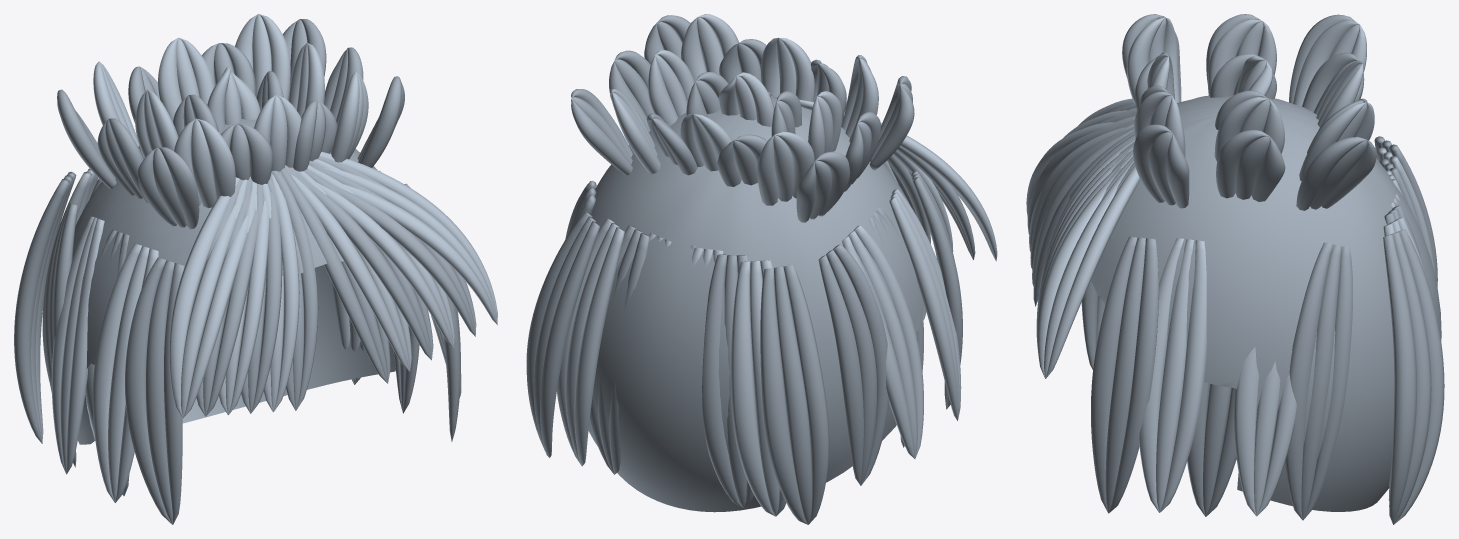
3 renders of one model, left to right at view 1: azimuth 30°, elevation 25°; view 2: azimuth 150°, elevation 25°; view 3: azimuth 270°, elevation 25°, orthographic. The views are drawn at different scales.
Parts seen in each view (by area): view 1: CrownHair_male_ref08, SideHair_-1_0_Strand2, BackHair_00_Strand0, SideHair_-1_0_Strand1, SideHair_-1_1_Strand2, FrontHair_CenterPart_-1_5_Strand2, SideHair_-1_1_Strand1, SideHair_-1_3_Strand0, FrontHair_CenterPart_1_0_Strand2, FrontHair_CenterPart_-1_5_Strand1, FrontHair_CenterPart_1_1_Strand2, FrontHair_CenterPart_-1_1_Strand0 (+69 smaller); view 2: CrownHair_male_ref08, BackHair_00_Strand2, BackHair_01_Strand2, BackHair_00_Strand1, BackHair_00_Strand0, BackHair_02_Strand2, BackHair_07_Strand0, SideHair_-1_4_Strand2, BackHair_08_Strand0, SideHair_-1_4_Strand1, SideHair_-1_1_Strand2, SideHair_-1_4_Strand0 (+61 smaller); view 3: CrownHair_male_ref08, BackHair_08_Strand2, SideHair_1_0_Strand0, SideHair_1_0_Strand2, SideHair_1_1_Strand0, SideHair_1_4_Strand2, SideHair_1_0_Strand1, SideHair_1_1_Strand1, SideHair_1_4_Strand1, SideHair_1_4_Strand0, BackHair_08_Strand1, BackHair_08_Strand0 (+52 smaller).
Part boxes in pixels (<box>): CrownHair_male_ref08: <box>72,119,395,444</box>; SideHair_-1_0_Strand2: <box>125,257,172,524</box>; BackHair_00_Strand0: <box>14,178,69,443</box>; SideHair_-1_0_Strand1: <box>145,260,174,524</box>; SideHair_-1_1_Strand2: <box>92,243,142,502</box>; FrontHair_CenterPart_-1_5_Strand2: <box>169,177,239,417</box>; SideHair_-1_1_Strand1: <box>108,246,149,502</box>; SideHair_-1_3_Strand0: <box>66,218,104,473</box>; FrontHair_CenterPart_1_0_Strand2: <box>280,168,387,383</box>; FrontHair_CenterPart_-1_5_Strand1: <box>181,204,237,417</box>; FrontHair_CenterPart_1_1_Strand2: <box>291,174,409,371</box>; FrontHair_CenterPart_-1_1_Strand0: <box>272,174,299,411</box>; CrownHair_male_ref08: <box>588,96,926,512</box>; BackHair_00_Strand2: <box>760,268,807,524</box>; BackHair_01_Strand2: <box>730,261,775,516</box>; BackHair_00_Strand1: <box>774,266,812,524</box>; BackHair_00_Strand0: <box>783,265,829,524</box>; BackHair_02_Strand2: <box>702,254,742,507</box>; BackHair_07_Strand0: <box>574,227,624,466</box>; SideHair_-1_4_Strand2: <box>818,255,863,485</box>; BackHair_08_Strand0: <box>540,221,599,457</box>; SideHair_-1_4_Strand1: <box>826,250,876,485</box>; SideHair_-1_1_Strand2: <box>889,197,958,420</box>; SideHair_-1_4_Strand0: <box>832,244,889,485</box>; CrownHair_male_ref08: <box>1069,95,1441,511</box>; BackHair_08_Strand2: <box>1383,234,1416,524</box>; SideHair_1_0_Strand0: <box>1108,238,1158,513</box>; SideHair_1_0_Strand2: <box>1091,236,1137,512</box>; SideHair_1_1_Strand0: <box>1159,240,1206,512</box>; SideHair_1_4_Strand2: <box>1285,242,1333,520</box>; SideHair_1_0_Strand1: <box>1105,237,1145,512</box>; SideHair_1_1_Strand1: <box>1156,239,1193,512</box>; SideHair_1_4_Strand1: <box>1301,244,1341,519</box>; SideHair_1_4_Strand0: <box>1303,246,1352,519</box>; BackHair_08_Strand1: <box>1390,232,1431,524</box>; BackHair_08_Strand0: <box>1394,229,1444,524</box>.
Bounding box in the file's own units: 0.7795 × 0.8446 × 0.7425.
